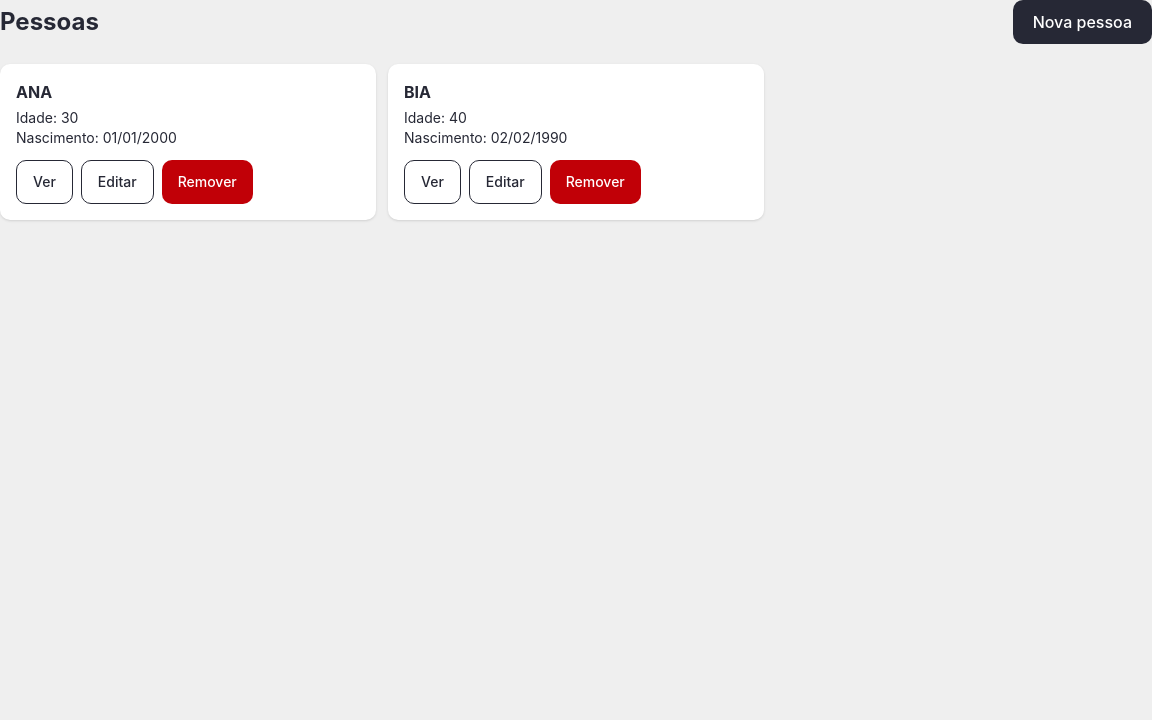
Scenario: PessoaListPageComponent › should remove the person after confirming
Click the button "Remover" below "Ana" at (207, 182), box [162,160,253,204]
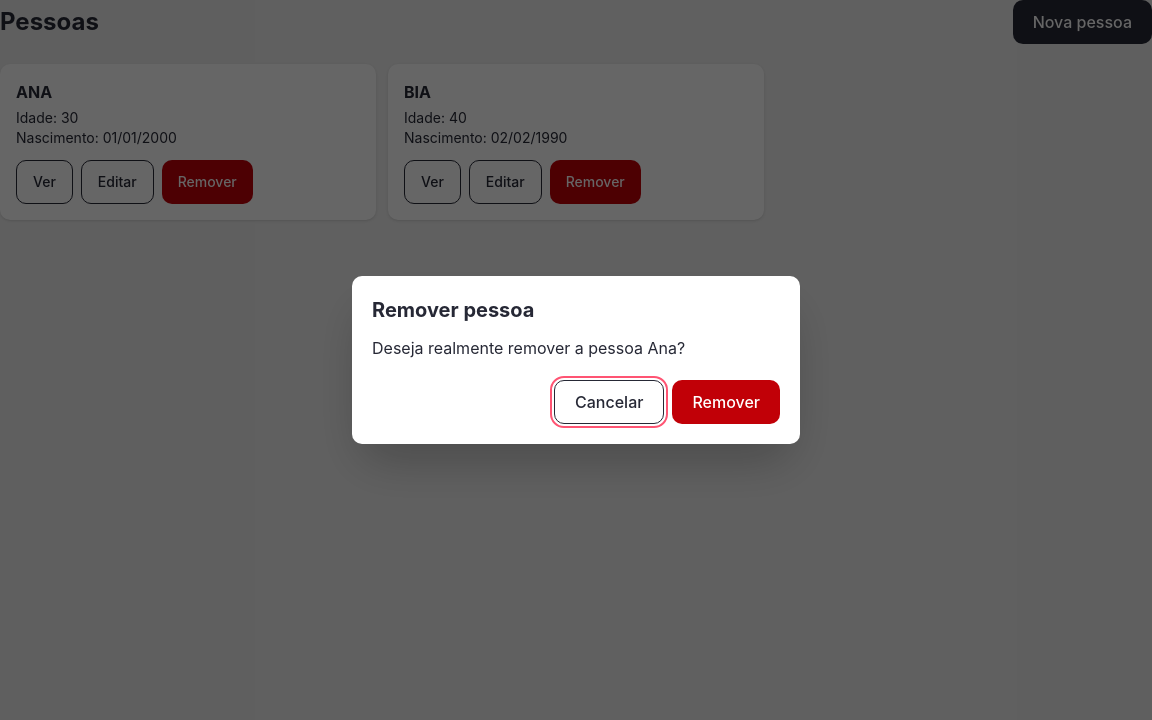
Click the button "Remover" at (726, 402), box [672,380,780,424]
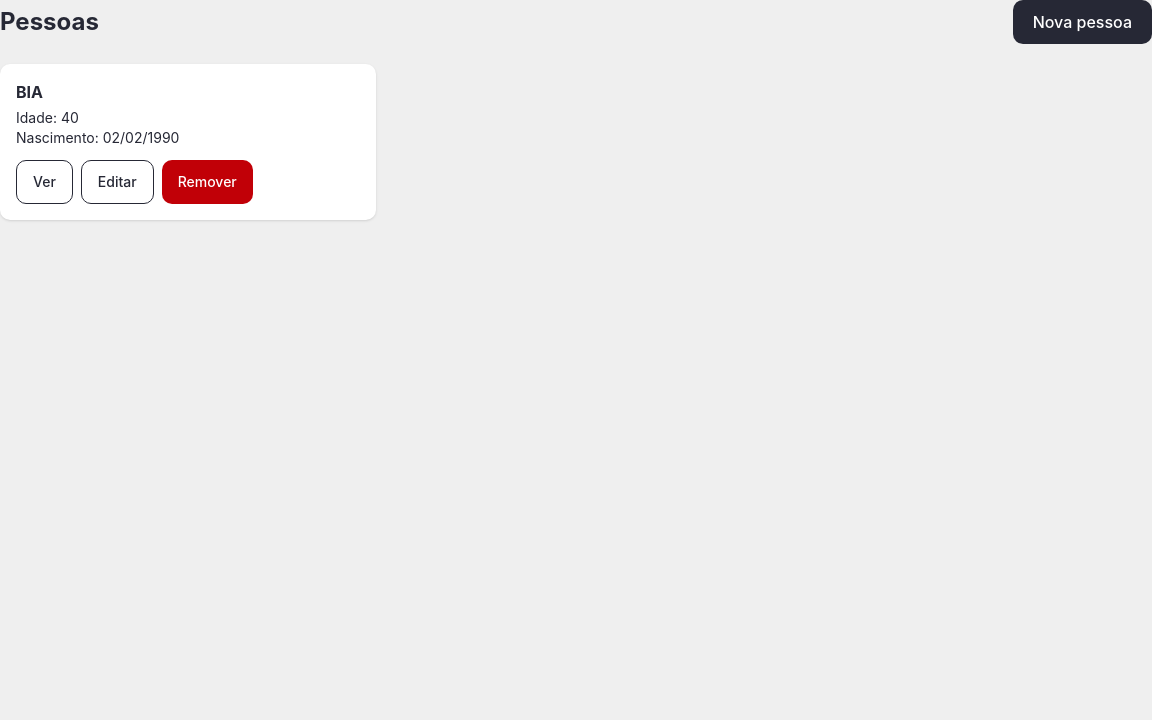
Check: the number of list items is 1, box [0,64,376,220]
Check: the text "Ana" is gone
